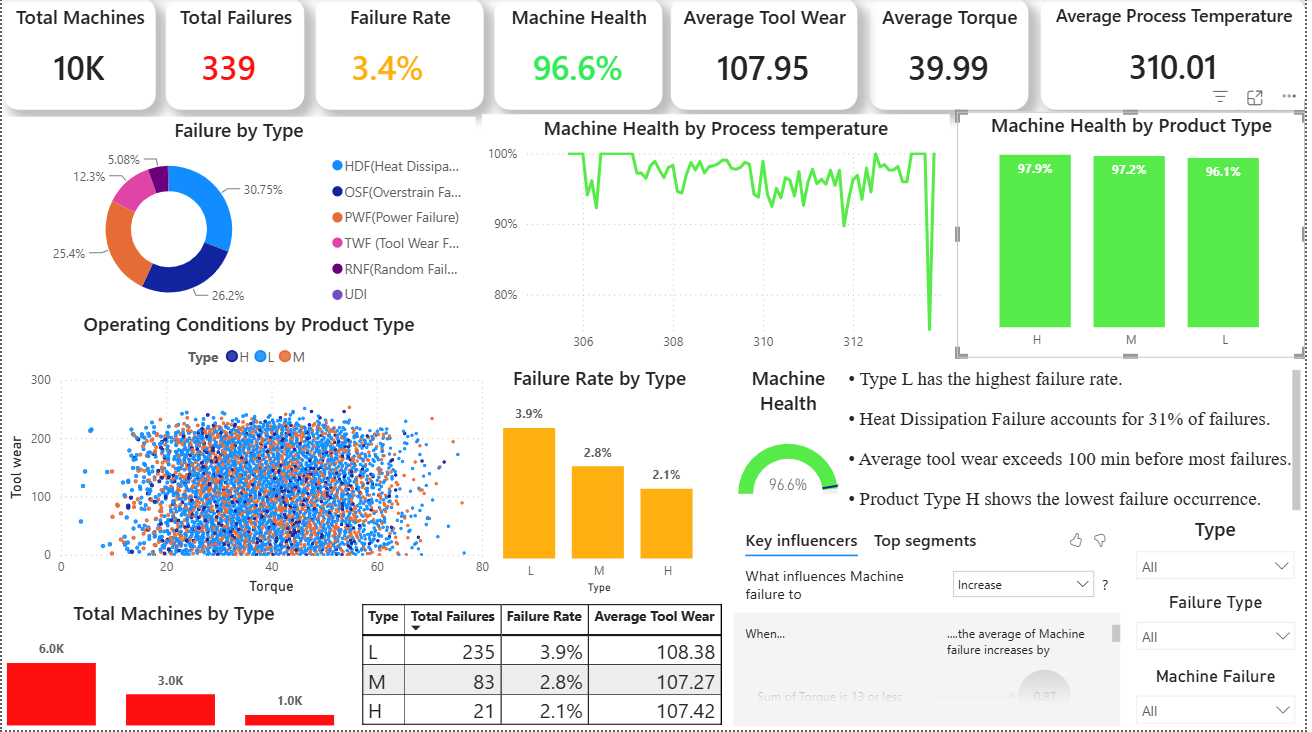

Layout of this report page (visuals, bound fields, positions):
{"tool":"powerbi","page":{"name":"Page 1","canvas":[1280,720],"ordinal":0},"visuals":[{"type":"cardVisual","title":"Total Machines","fields":{"Data":["Manufacturing.Total Machines"]},"box":[1.2,0,149.7,109.2],"z":0},{"type":"cardVisual","title":"Total Failures","fields":{"Data":["Manufacturing.Total Failures"]},"box":[160.7,0,136.2,109.2],"z":1000},{"type":"cardVisual","title":"Failure Rate","fields":{"Data":["Manufacturing.Failure Rate"]},"box":[308,0,164.4,109.2],"z":2000},{"type":"cardVisual","title":"Machine Health","fields":{"Data":["Manufacturing.Machine Health Score"]},"box":[483.4,0,164.4,109.2],"z":3000},{"type":"cardVisual","title":"Average Torque","fields":{"Data":["Manufacturing.Average Torque"]},"box":[851.5,0,155.8,109.2],"z":4000},{"type":"cardVisual","title":"Average Tool Wear","fields":{"Data":["Manufacturing.Average Tool Wear"]},"box":[656.4,0,182.8,109.2],"z":5000},{"type":"cardVisual","title":"Average Process Temperature","fields":{"Data":["Manufacturing.Average Process Tempearture"]},"box":[1019.6,0,260.1,109.2],"z":6000},{"type":"donutChart","title":"Failure by Type","fields":{"Category":["Failure Analysis.Failure Type"],"Y":["CountNonNull(Failure Analysis.Failure)"]},"box":[0,116.6,465,196.3],"z":7000},{"type":"columnChart","title":"Total Machines by Type","fields":{"Category":["Manufacturing.Type"],"Y":["Manufacturing.Total Machines"]},"box":[0,590.2,337.4,130.1],"z":8000},{"type":"clusteredColumnChart","title":"Machine Health by Product Type","fields":{"Category":["Manufacturing.Type"],"Y":["Manufacturing.Machine Health Score"]},"box":[937.4,111.7,342.3,241.7],"z":9000},{"type":"columnChart","fields":{"Category":["Manufacturing.Type"],"Y":["Manufacturing.Failure Rate"]},"box":[460.1,359.5,252.8,230.7],"z":10000},{"type":"scatterChart","title":"Operating Conditions by Product Type","fields":{"X":["Manufacturing.Torque"],"Y":["Manufacturing.Tool wear"],"Size":["Avg(Manufacturing.Rotational speed)"],"Series":["Manufacturing.Type"]},"box":[1.2,306.8,482.2,283.4],"z":11000},{"type":"tableEx","fields":{"Values":["Manufacturing.Type","Manufacturing.Total Failures","Manufacturing.Failure Rate","Manufacturing.Average Tool Wear"]},"box":[347.2,590.2,365.6,130.1],"z":12000},{"type":"lineChart","title":"Machine Health by Process temperature","fields":{"Y":["Manufacturing.Machine Health Score"],"Category":["Manufacturing.Process temperature"]},"box":[471.2,114.1,458.9,241.7],"z":13000},{"type":"textbox","box":[825.8,359.5,454,148.5],"z":14000},{"type":"slicer","title":"Type","fields":{"Values":["Manufacturing.Type"]},"box":[1103.1,508,175.5,76.1],"z":15000},{"type":"slicer","title":"Machine Failure","fields":{"Values":["Manufacturing.Machine failure"]},"box":[1103.1,655.2,176.7,65],"z":16000},{"type":"slicer","title":"Failure Type","fields":{"Values":["Failure Analysis.Failure Type"]},"box":[1103.1,582.8,176.7,73.6],"z":17000},{"type":"keyDriversVisual","fields":{"Target":["Manufacturing.Machine failure"],"ExplainBy":["Sum(Manufacturing.Torque)","Sum(Manufacturing.Tool wear)","Sum(Manufacturing.Rotational speed)","Sum(Manufacturing.Air temperature)","Sum(Manufacturing.Process temperature)"]},"box":[712.9,508,390.2,212.3],"z":17001},{"type":"gauge","title":"Machine Health ","fields":{"Y":["Manufacturing.Machine Health Score"],"TargetValue":["Failure Analysis.Target Machine Health"]},"box":[717.8,359.5,108,155.8],"z":17002}]}

Visuals, with their boxes in screenshot pixels (x1, y1, x2, y2), scaled from the page's 1280x720 canvas onto the 1312x732 screenshot:
"Total Machines" cardVisual: box=[1, 0, 155, 111]
"Total Failures" cardVisual: box=[165, 0, 304, 111]
"Failure Rate" cardVisual: box=[316, 0, 484, 111]
"Machine Health" cardVisual: box=[495, 0, 664, 111]
"Average Torque" cardVisual: box=[873, 0, 1032, 111]
"Average Tool Wear" cardVisual: box=[673, 0, 860, 111]
"Average Process Temperature" cardVisual: box=[1045, 0, 1311, 111]
"Failure by Type" donutChart: box=[0, 119, 477, 318]
"Total Machines by Type" columnChart: box=[0, 600, 346, 731]
"Machine Health by Product Type" clusteredColumnChart: box=[961, 114, 1311, 359]
columnChart - Manufacturing.Type x Manufacturing.Failure Rate: box=[472, 365, 731, 600]
"Operating Conditions by Product Type" scatterChart: box=[1, 312, 495, 600]
tableEx - Manufacturing.Type x Manufacturing.Total Failures: box=[356, 600, 731, 731]
"Machine Health by Process temperature" lineChart: box=[483, 116, 953, 362]
textbox: box=[846, 365, 1311, 516]
"Type" slicer: box=[1131, 516, 1311, 594]
"Machine Failure" slicer: box=[1131, 666, 1311, 731]
"Failure Type" slicer: box=[1131, 593, 1311, 667]
keyDriversVisual - Manufacturing.Machine failure x Sum(Manufacturing.Torque): box=[731, 516, 1131, 731]
"Machine Health " gauge: box=[736, 365, 846, 524]
